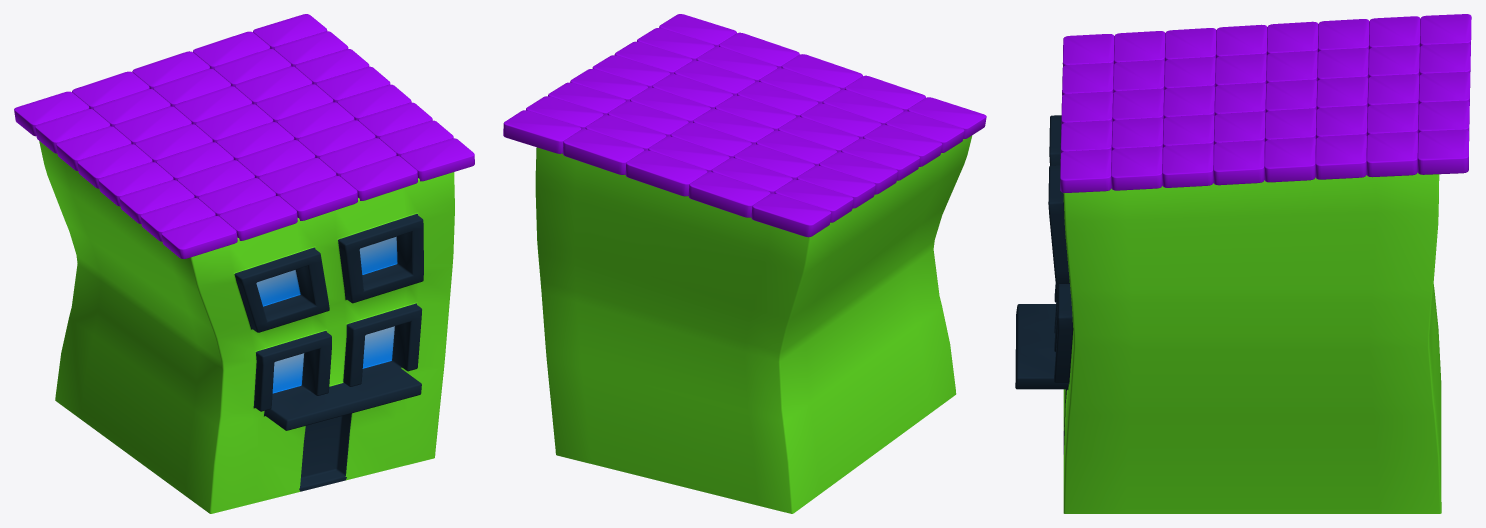
The model's file is EdificioTriste.fbx.
The picture shows the model from 3 angles, left to right: view 1: azimuth 30°, elevation 25°; view 2: azimuth 150°, elevation 25°; view 3: azimuth 270°, elevation 25°; orthographic projection. The views are drawn at different scales.
Visible parts, largest first — view 1: edificio2; view 2: edificio2; view 3: edificio2.
Boxes of the visible parts, bbox=[...] form: edificio2: bbox=[14, 14, 474, 513]; edificio2: bbox=[503, 14, 986, 513]; edificio2: bbox=[1015, 14, 1471, 513].
Bounding box in the file's own units: 434 × 442 × 480.
1 material, 1 textured.
